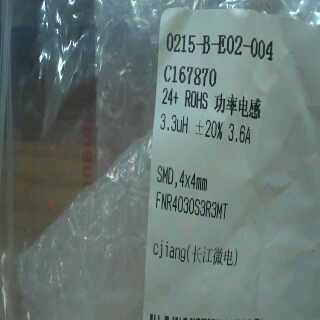3.3uH: (159, 112, 190, 139)
